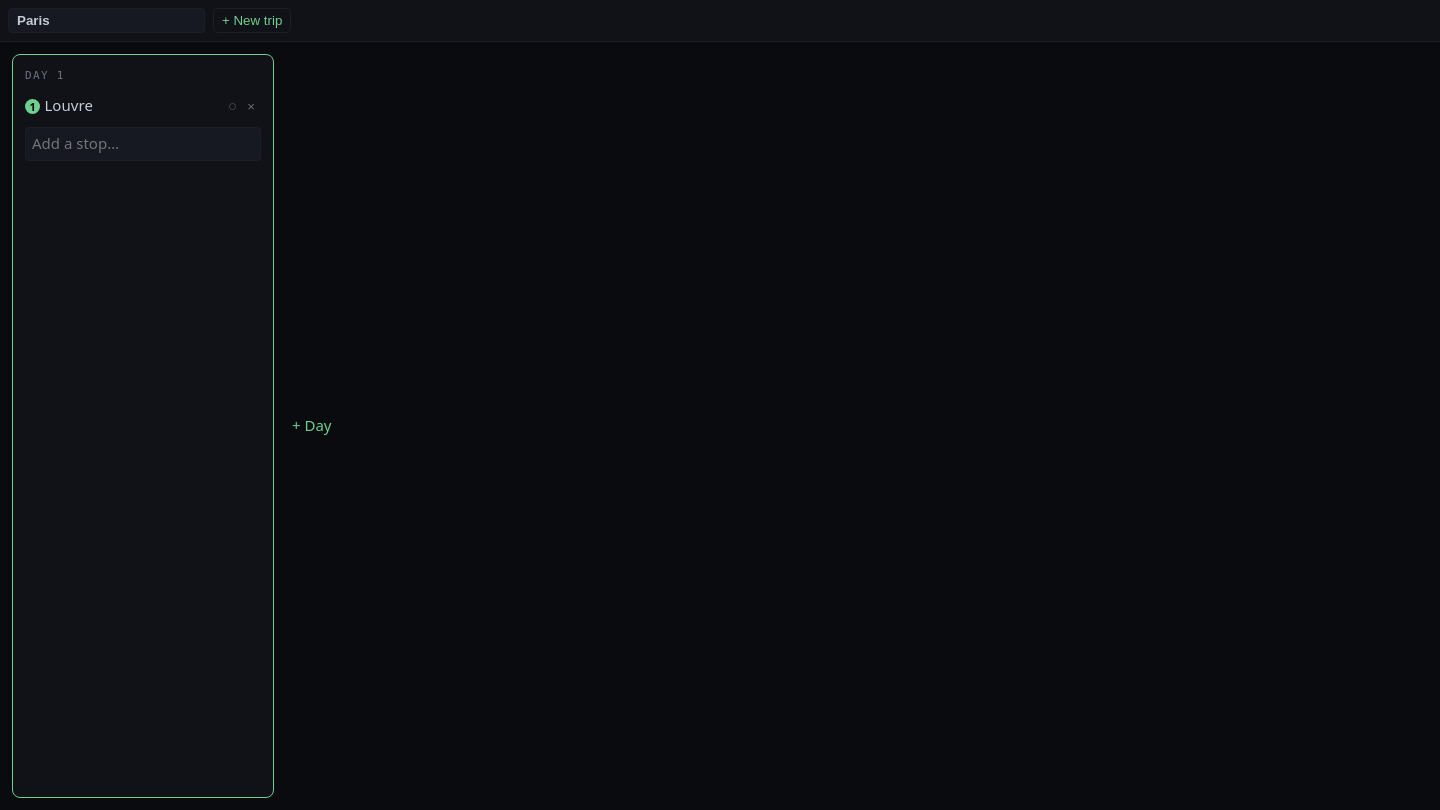
Test: day-strip module › renders days and stops of the active trip and adds a stop
Expected: the text "Day 1" is shown, [25, 67, 65, 84]
Expected: the text "Louvre" is shown, [44, 95, 93, 115]
In the field with placeholder "Add a stop…": (143, 144) [25, 127, 261, 161], type "Musée d’Orsay"
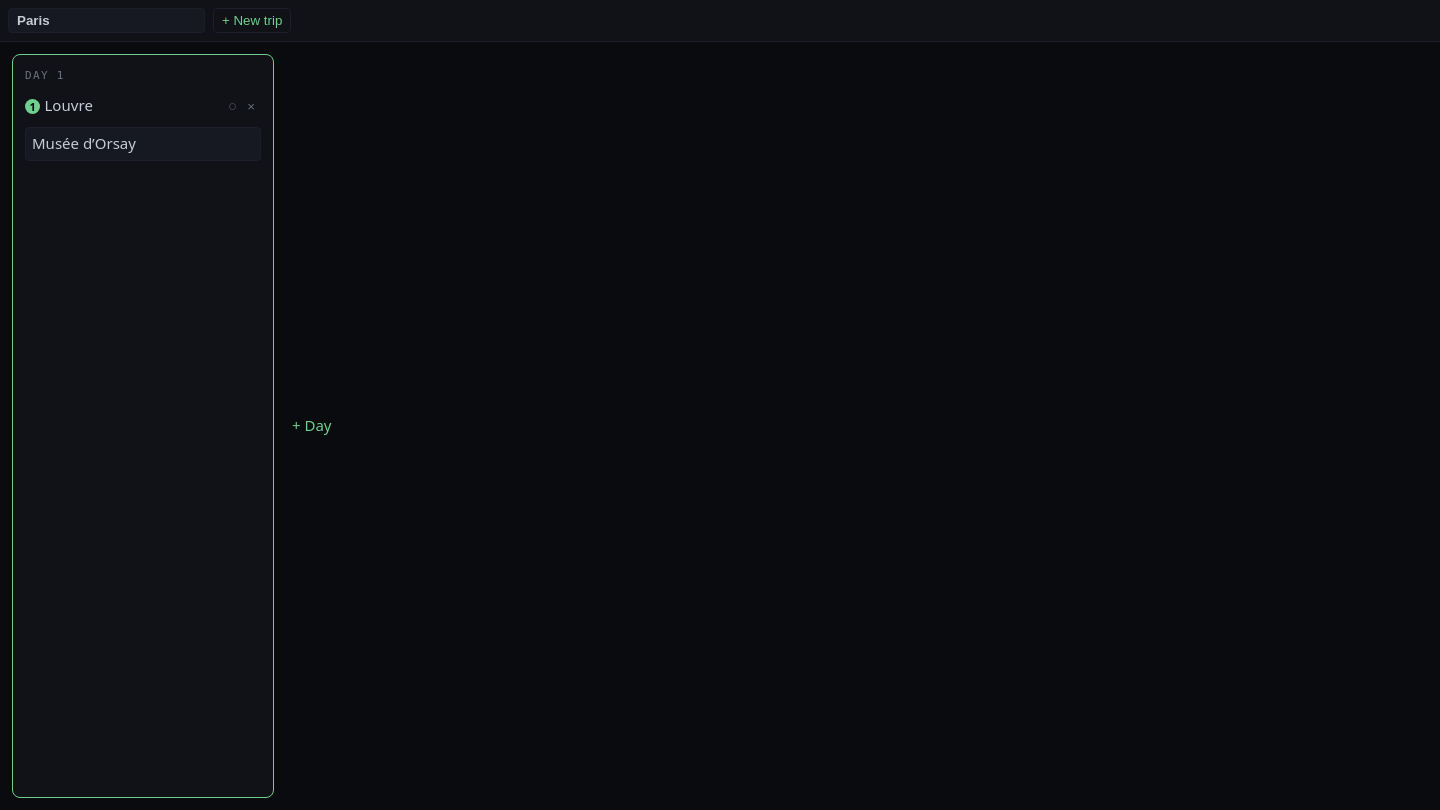
Submit the form with test id "add-stop-form", box [25, 127, 261, 161]
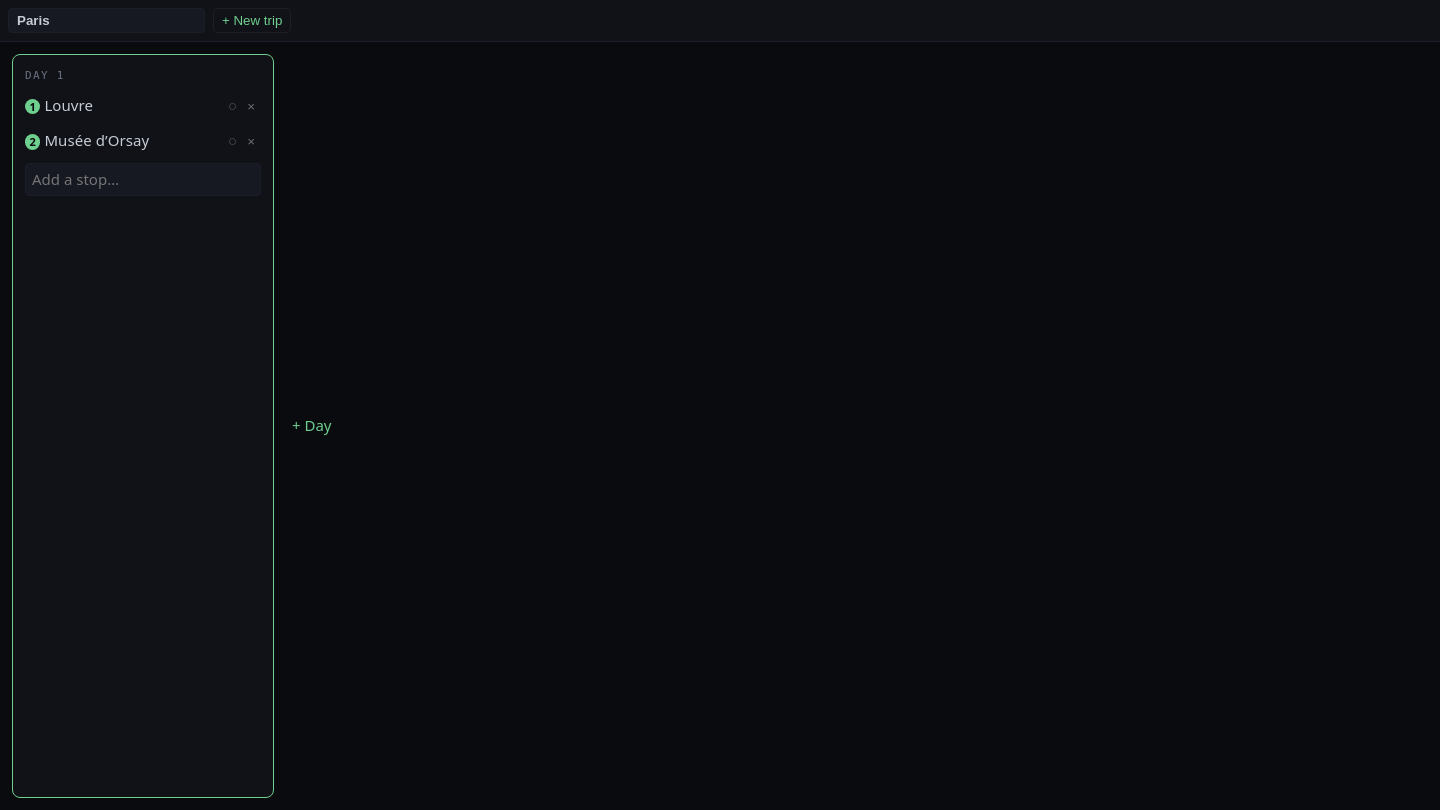
Now the text "Musée d’Orsay" is shown, box [44, 130, 149, 150]
